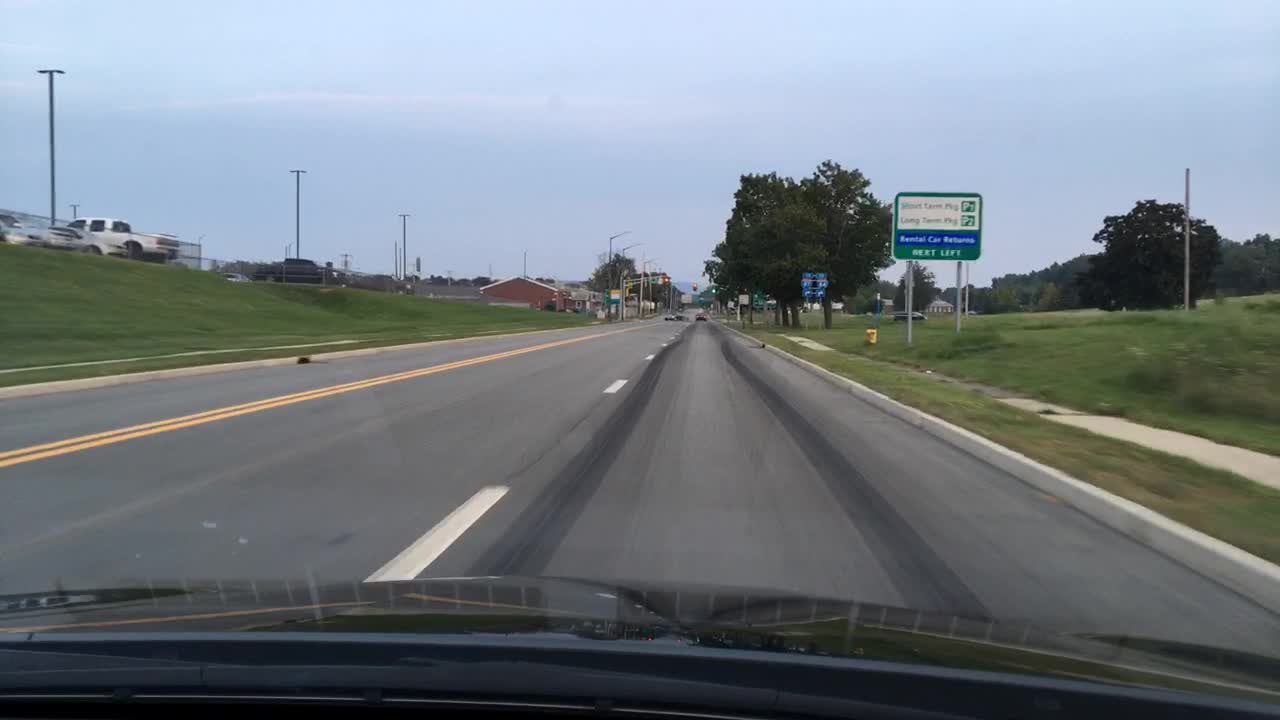car: (66, 212, 179, 265), (47, 221, 120, 259), (274, 255, 350, 286), (0, 208, 51, 250), (350, 271, 415, 296), (222, 269, 255, 285), (894, 306, 927, 321)
traffic light: (661, 274, 673, 288), (689, 279, 699, 295)
traffic sign: (891, 188, 983, 262), (814, 267, 829, 301), (799, 272, 813, 299), (606, 286, 623, 305), (751, 291, 766, 309), (678, 292, 693, 307), (737, 292, 749, 308), (722, 296, 736, 309), (647, 277, 658, 289)
